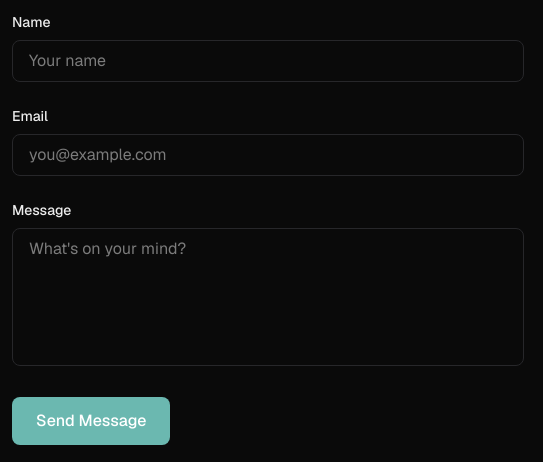
Scenario: ContactForm › shows success message after submission
The image size is (543, 462).
In the field labelled "Name": (268, 61) [12, 40, 524, 82], type "John Doe"
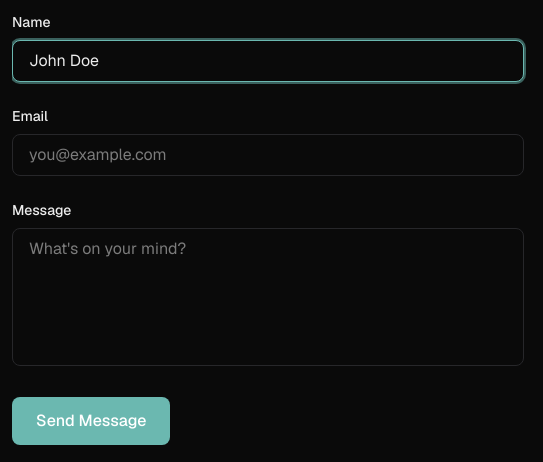
In the field labelled "Email": (268, 155) [12, 134, 524, 176], type "john@example.com"
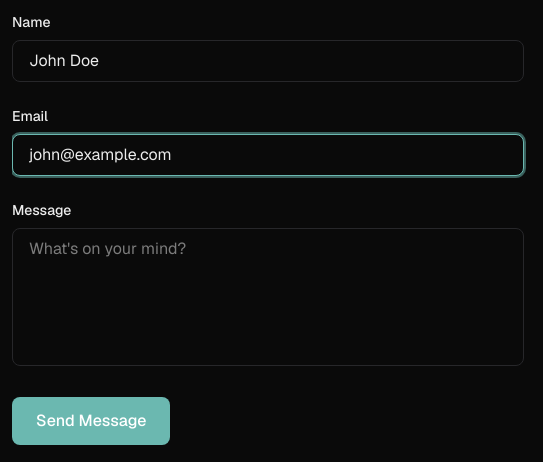
In the text box labelled "Message": (268, 297) [12, 228, 524, 366], type "Hello, this is a test message."
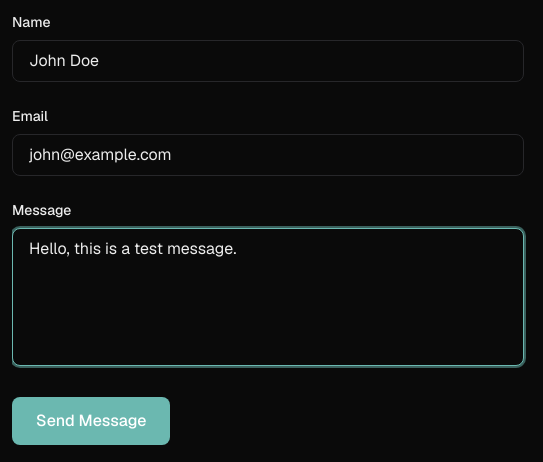
Click the button "Send Message": (91, 421) [12, 397, 170, 445]
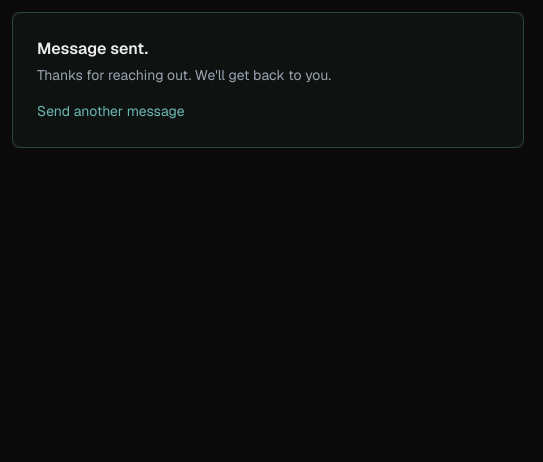
Check: the text "Message sent." is shown, box [37, 38, 148, 59]
